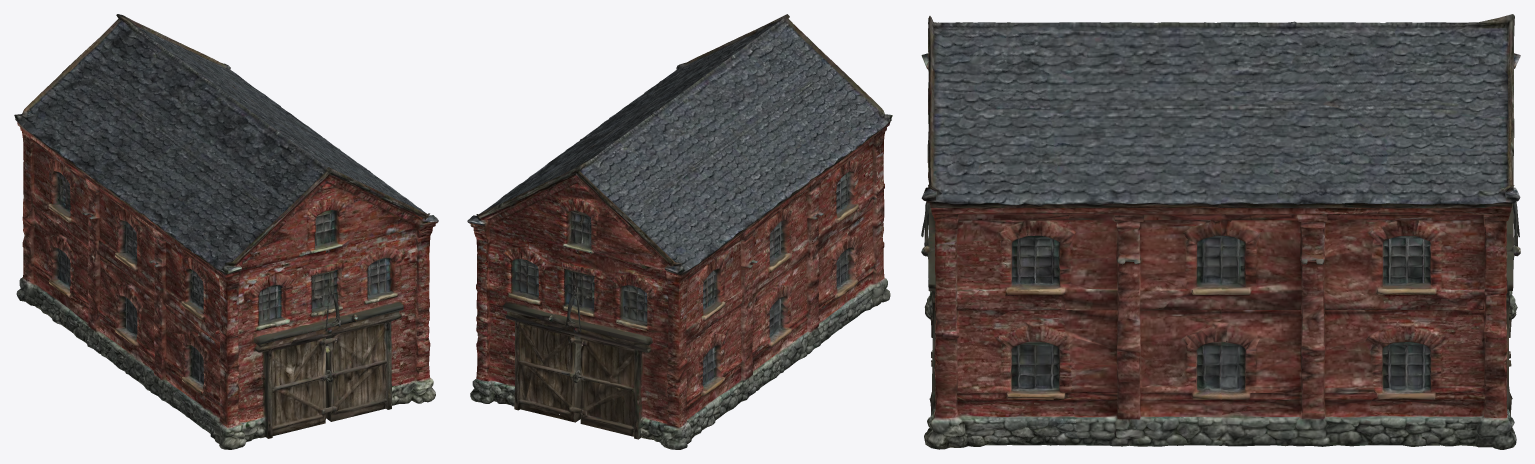
The model's file is brick-warehouse.glb.
3 renders of one model, left to right at view 1: azimuth 30°, elevation 25°; view 2: azimuth 150°, elevation 25°; view 3: azimuth 270°, elevation 25°, orthographic. The views are drawn at different scales.
Parts seen in each view (by area): view 1: tripo_node_e0e62334-1a32-4b5d-b6ad-18b922aebe70; view 2: tripo_node_e0e62334-1a32-4b5d-b6ad-18b922aebe70; view 3: tripo_node_e0e62334-1a32-4b5d-b6ad-18b922aebe70.
Part boxes in pixels (x1=…): tripo_node_e0e62334-1a32-4b5d-b6ad-18b922aebe70: x1=14, y1=14, x2=438, y2=449; tripo_node_e0e62334-1a32-4b5d-b6ad-18b922aebe70: x1=467, y1=14, x2=892, y2=449; tripo_node_e0e62334-1a32-4b5d-b6ad-18b922aebe70: x1=921, y1=14, x2=1520, y2=449.
Bounding box in the file's own units: 0.5682 × 0.65 × 0.979.
Materials: 1 (1 with a texture image).
